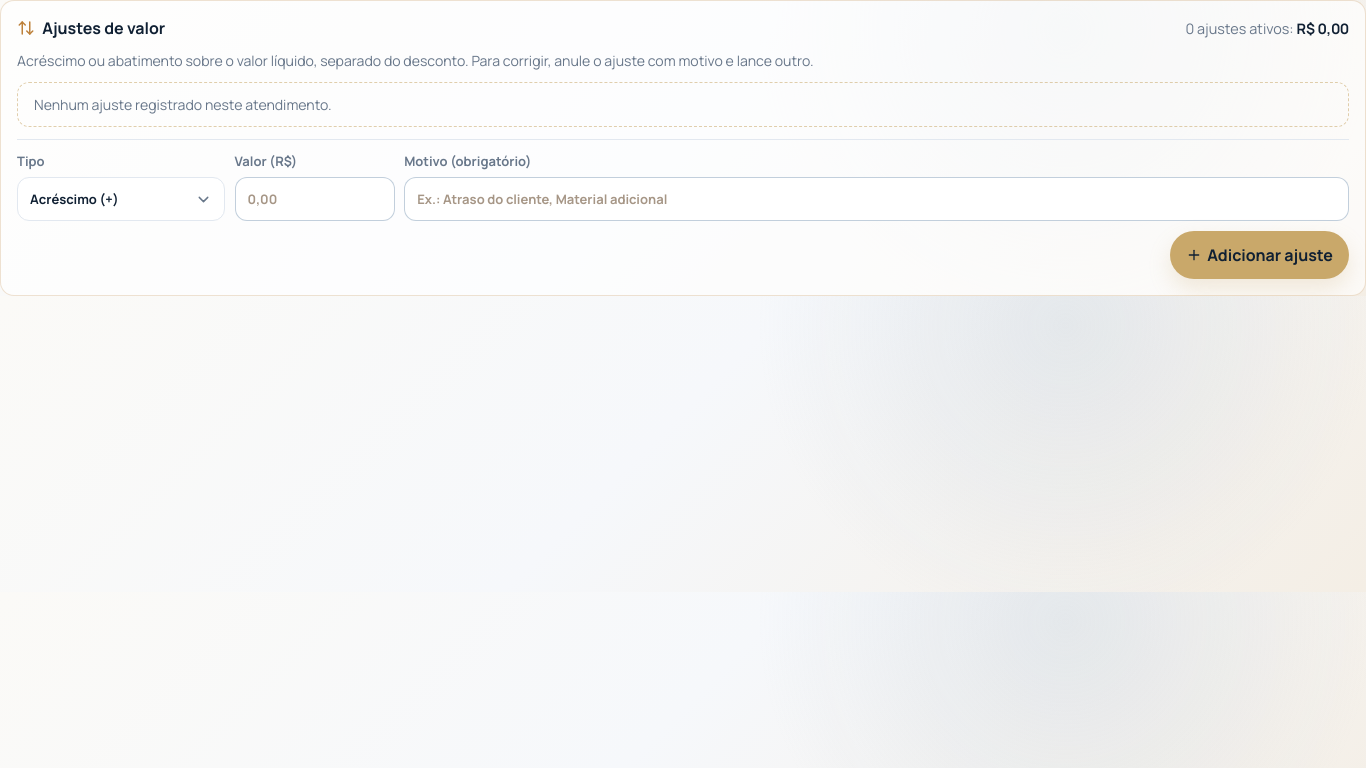
AppointmentValueAdjustments › relê o snapshot quando o pai regrava o agendamento, sem usar o líquido velho na pré-checagem
Expected: the text "Nenhum ajuste registrado neste atendimento." is shown, [17,82,1349,127]
Click the dropdown named "Tipo" at (121, 199), box [17,177,225,221]
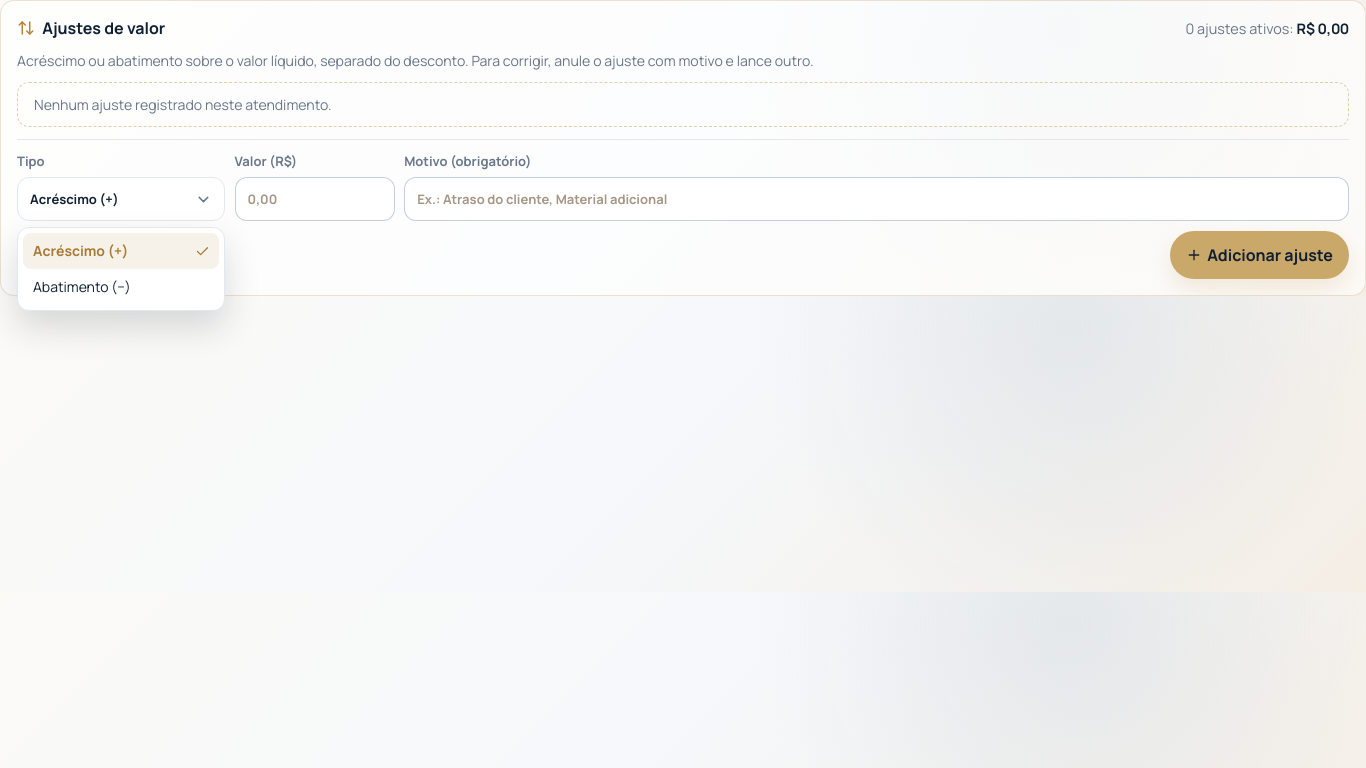
Click the option "Abatimento (−)" at (82, 287), box [33,277,131,296]
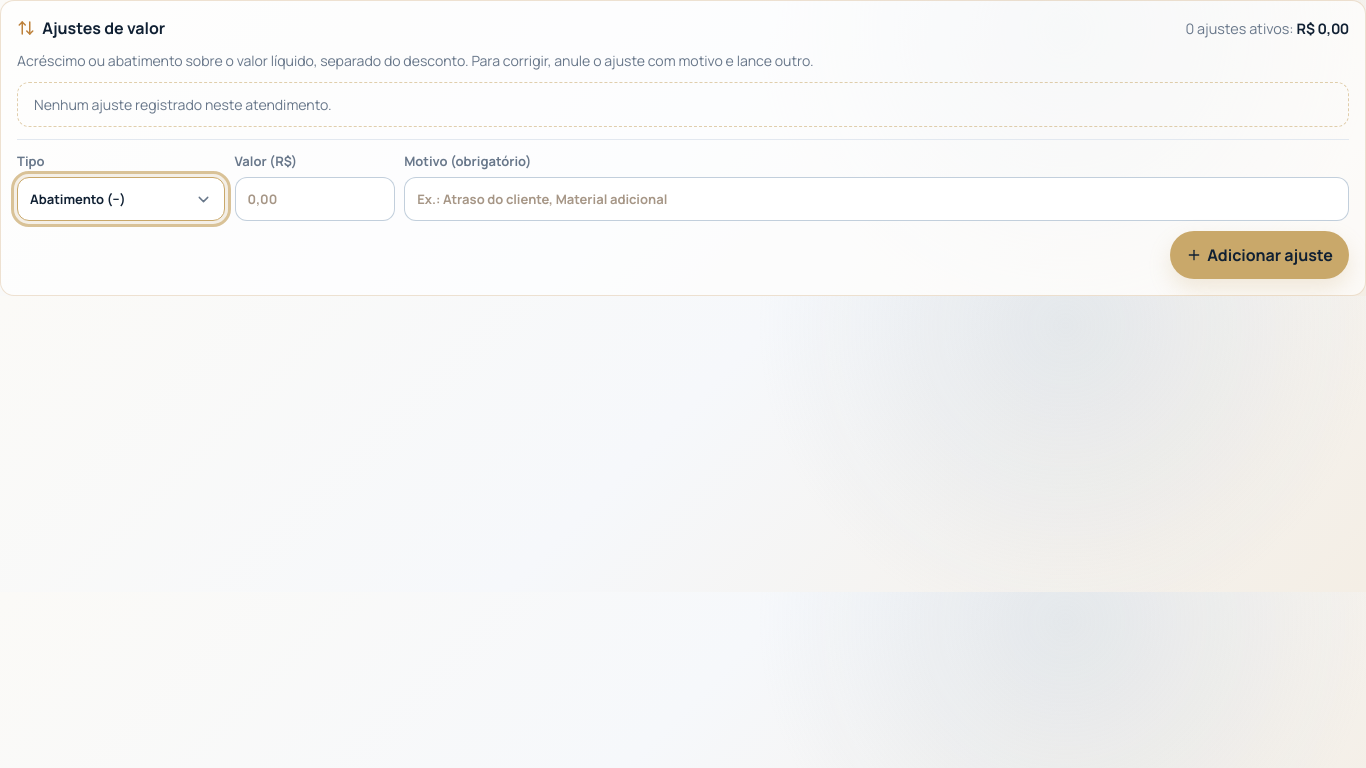
Type "100" into the number field labelled "Valor (R$)" at (315, 199), box [235,177,395,221]
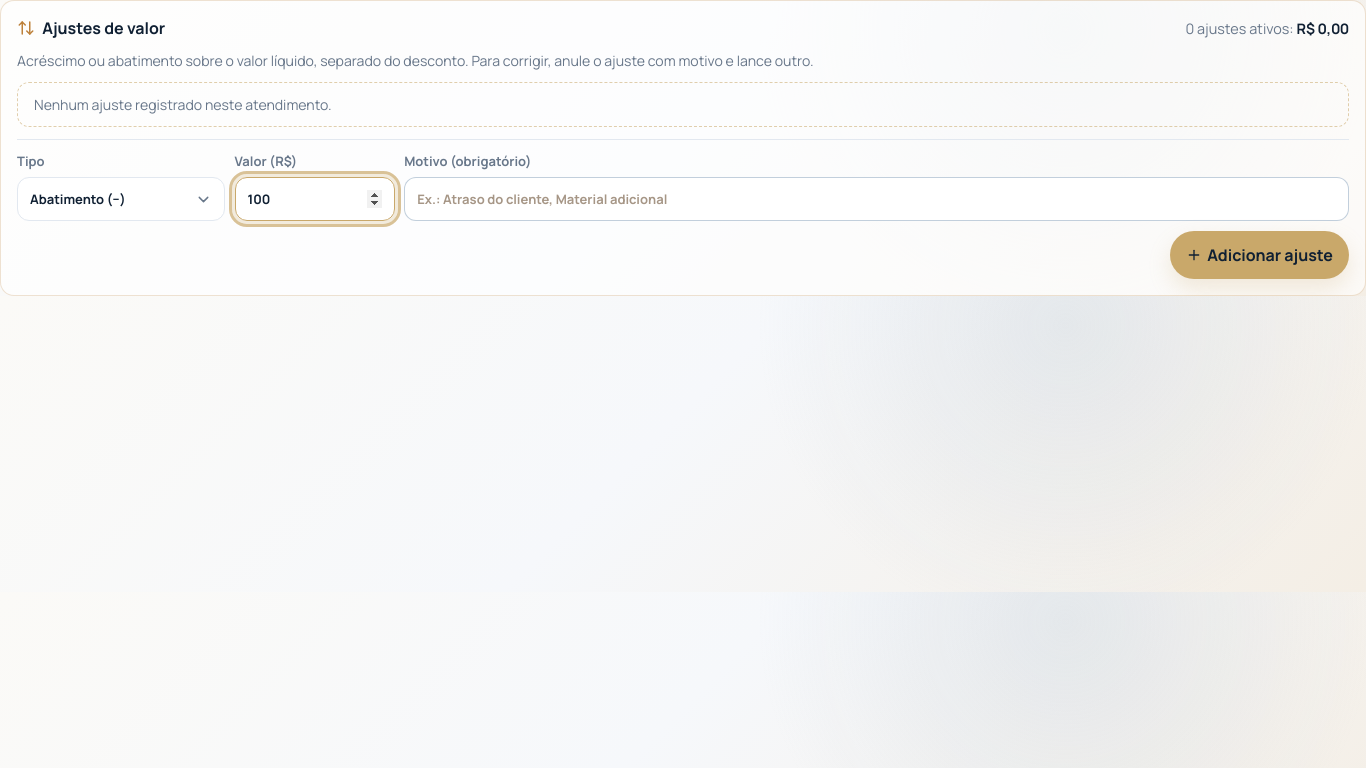
Type "Desistiu de um furo" into the field labelled "Motivo (obrigatório)" at (877, 199), box [404,177,1349,221]
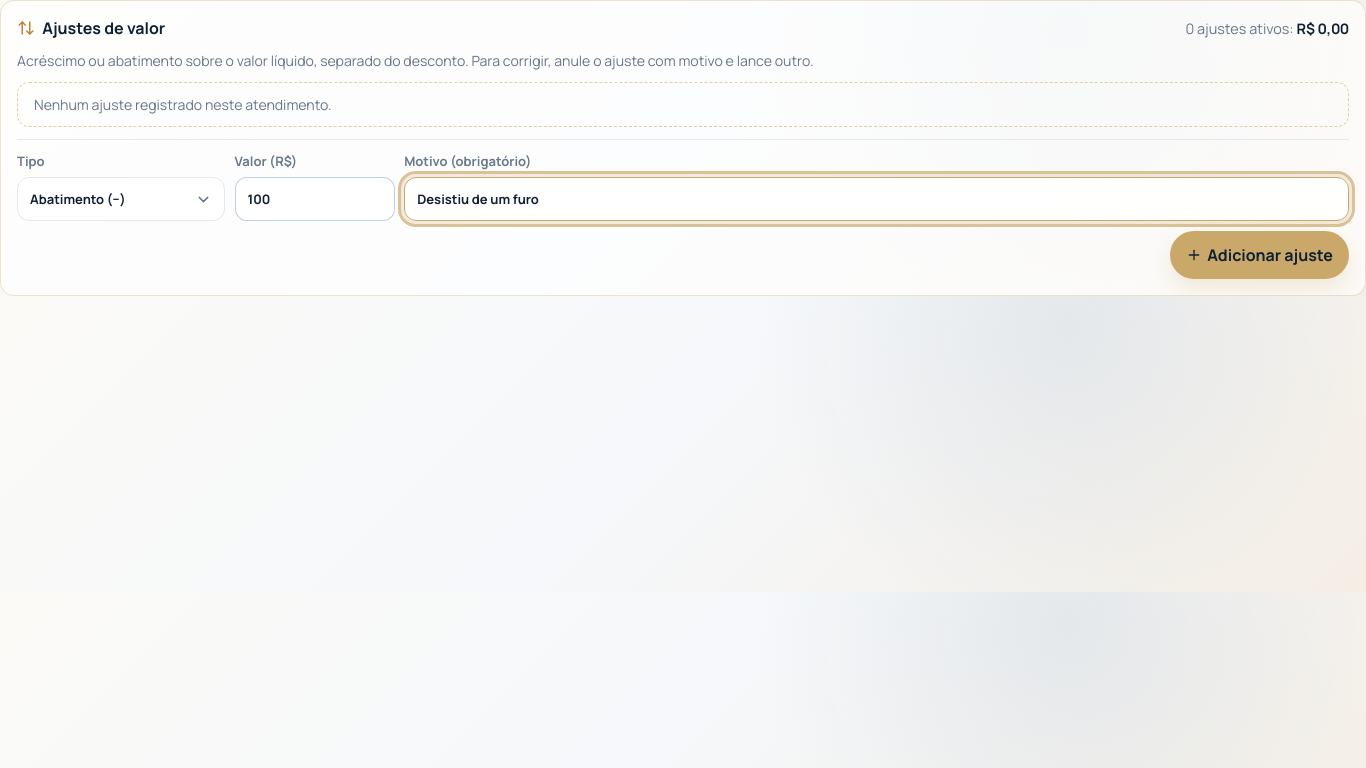
Click the button "Adicionar ajuste" at (1259, 255), box [1170,231,1349,279]
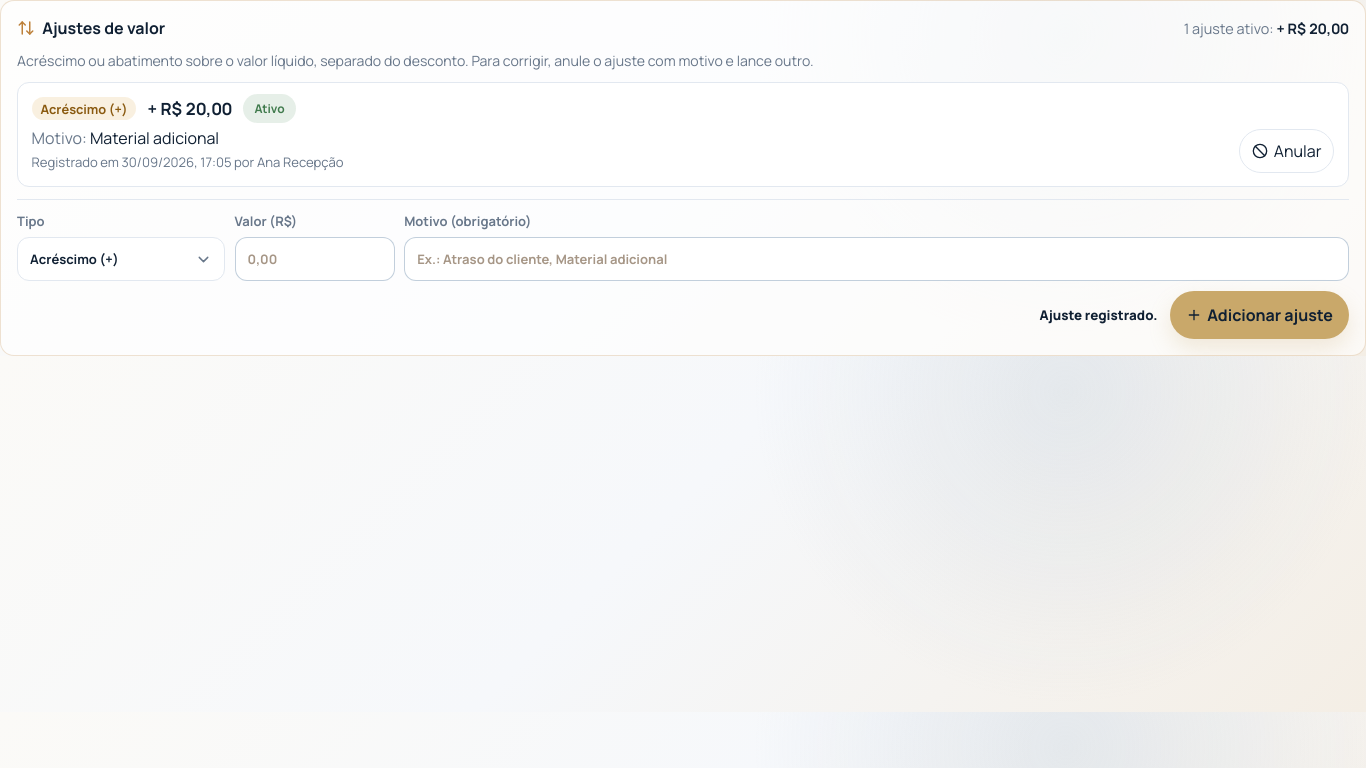
Expected: the text "Ajuste registrado." is shown, [1040,306,1158,324]
